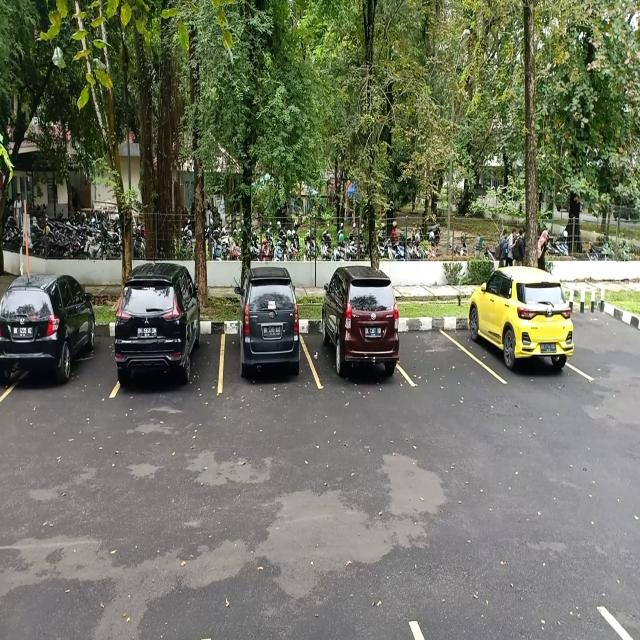empty: (404, 310, 474, 392)
occupied: (106, 298, 221, 399), (0, 297, 101, 403), (472, 290, 574, 384), (310, 306, 408, 392), (222, 307, 312, 400)
